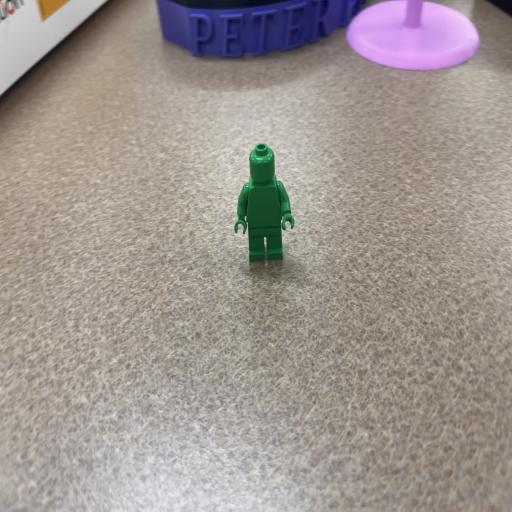Lego-Minifig: (234, 143, 294, 261)
